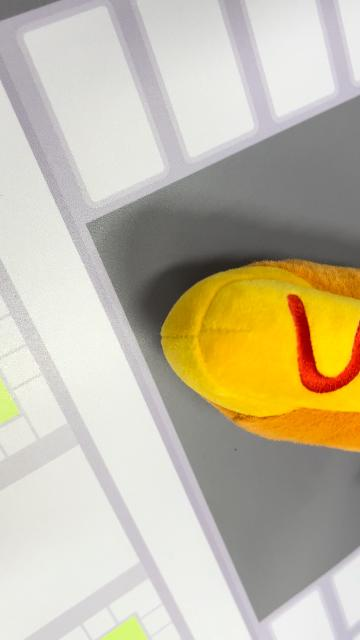hotdog: (160, 257, 358, 453)
